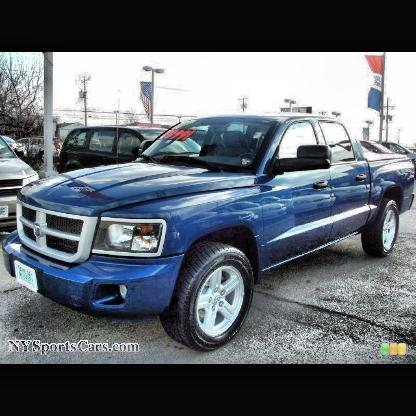Dodge Dakota Crew Cab 2010: (4, 114, 416, 353)
